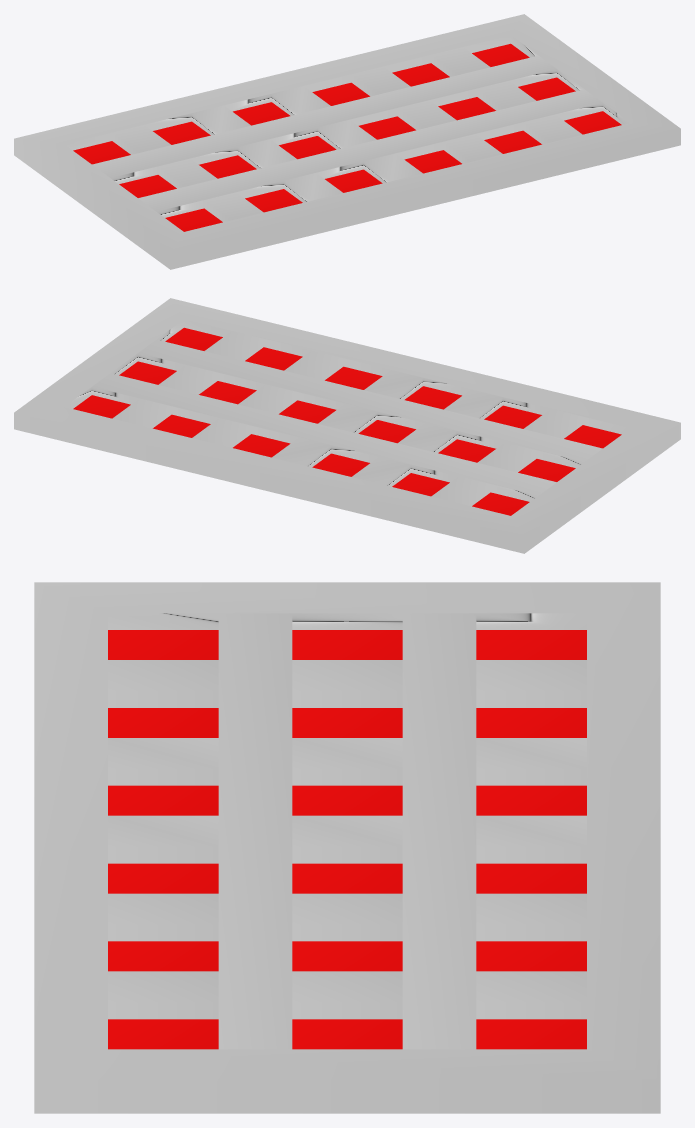
File: kitA.fbx
3 views of the same model, one above another, from view 1: azimuth 30°, elevation 25°; view 2: azimuth 150°, elevation 25°; view 3: azimuth 270°, elevation 25° (orthographic). The views are drawn at different scales.
Parts seen in each view (by area): view 1: Cube; view 2: Cube; view 3: Cube.
Part boxes in pixels (x1,y1,x2,y2): Cube: (14,14,680,269); Cube: (14,298,680,553); Cube: (34,582,660,1113).
Bounding box in the file's own units: 203 × 6.35 × 108.
